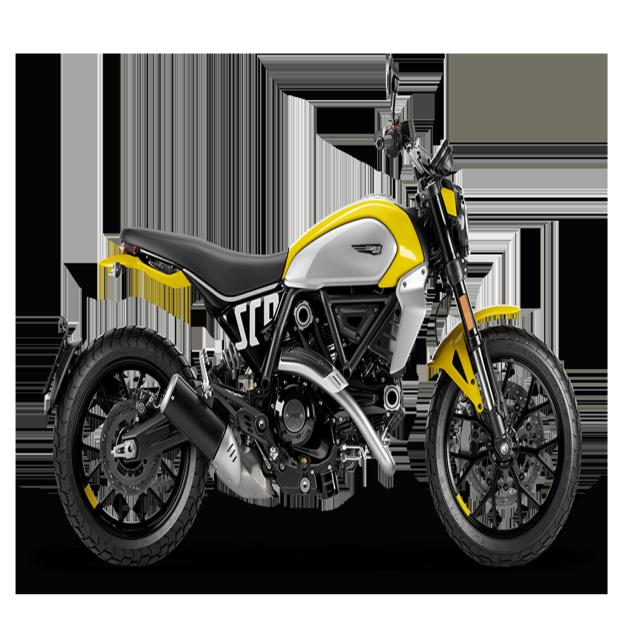Bike: (45, 64, 581, 566)
